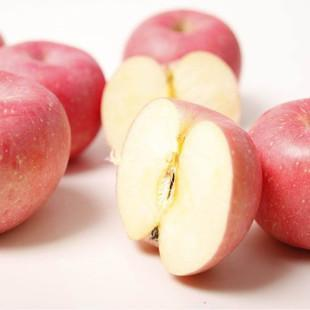apple: (3, 43, 104, 174), (1, 72, 71, 236), (245, 98, 310, 257)
